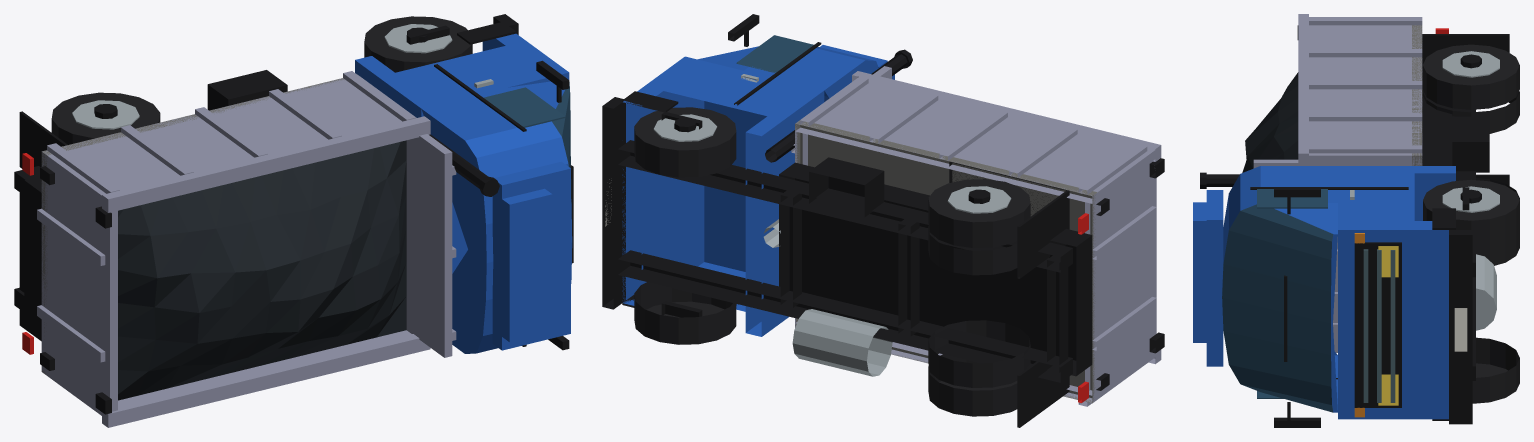
File: loaded.glb
3 renders of one model, left to right at view 1: azimuth 30°, elevation 25°; view 2: azimuth 150°, elevation 25°; view 3: azimuth 270°, elevation 25°, orthographic. The views are drawn at different scales.
Visible parts, largest first — view 1: loaded_load, loaded_bed, loaded_cab_upper, loaded_air_dam_top, loaded_headboard, loaded_air_dam, loaded_cab_arch, loaded_front1, loaded_rear_out1, loaded_subframe, loaded_cab_back, loaded_battery_box (+6 smaller); view 2: loaded_bed, loaded_subframe, loaded_cab_arch, loaded_chassis-1, loaded_chassis1, loaded_cab_back, loaded_front1, loaded_cab_front, loaded_rear_out1, loaded_fuel_tank, loaded_bumper, loaded_front-1 (+13 smaller); view 3: loaded_cab_upper, loaded_bed, loaded_cab_front, loaded_rear_out1, loaded_grille, loaded_front1, loaded_bumper, loaded_cab_arch, loaded_air_dam, loaded_load, loaded_front-1, loaded_battery_box (+22 smaller).
Boxes of the visible parts, x1,y1,x2,y2 form: loaded_load: (118, 140, 406, 400); loaded_bed: (37, 71, 430, 427); loaded_cab_upper: (421, 81, 572, 353); loaded_air_dam_top: (502, 188, 552, 342); loaded_headboard: (418, 134, 452, 357); loaded_air_dam: (492, 161, 570, 350); loaded_cab_arch: (395, 46, 548, 273); loaded_front1: (364, 16, 472, 72); loaded_rear_out1: (51, 92, 160, 144); loaded_subframe: (24, 176, 41, 330); loaded_cab_back: (355, 56, 437, 117); loaded_battery_box: (207, 70, 287, 110); loaded_bed: (795, 71, 1161, 406); loaded_subframe: (779, 162, 1092, 376); loaded_cab_arch: (663, 61, 807, 311); loaded_chassis-1: (618, 250, 1072, 382); loaded_chassis1: (618, 140, 1072, 272); loaded_cab_back: (745, 86, 824, 336); loaded_front1: (634, 107, 736, 177); loaded_cab_front: (622, 56, 704, 305); loaded_rear_out1: (928, 179, 1030, 247); loaded_fuel_tank: (792, 309, 892, 376); loaded_bumper: (602, 97, 625, 309); loaded_front-1: (634, 282, 736, 344); loaded_cab_upper: (1222, 166, 1337, 412); loaded_bed: (1298, 14, 1422, 352); loaded_cab_front: (1338, 221, 1448, 419); loaded_rear_out1: (1423, 44, 1519, 109); loaded_grille: (1354, 242, 1401, 407); loaded_front1: (1423, 179, 1519, 246); loaded_bumper: (1449, 230, 1472, 424); loaded_cab_arch: (1338, 173, 1414, 220); loaded_air_dam: (1206, 190, 1223, 366); loaded_load: (1242, 72, 1298, 172); loaded_front-1: (1472, 337, 1519, 403); loaded_battery_box: (1452, 116, 1489, 172).
Bounding box in the file's own units: 7.6 × 3.9 × 4.85.
